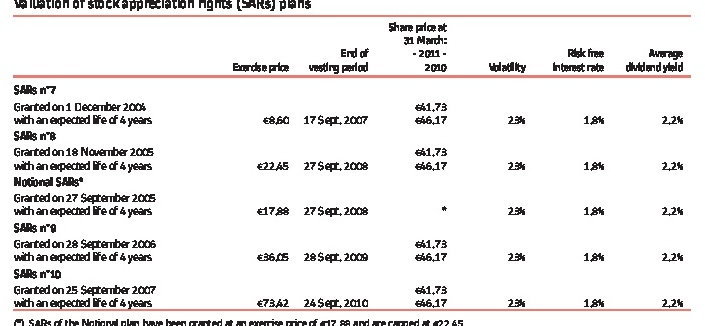table: (0, 0, 705, 326)
